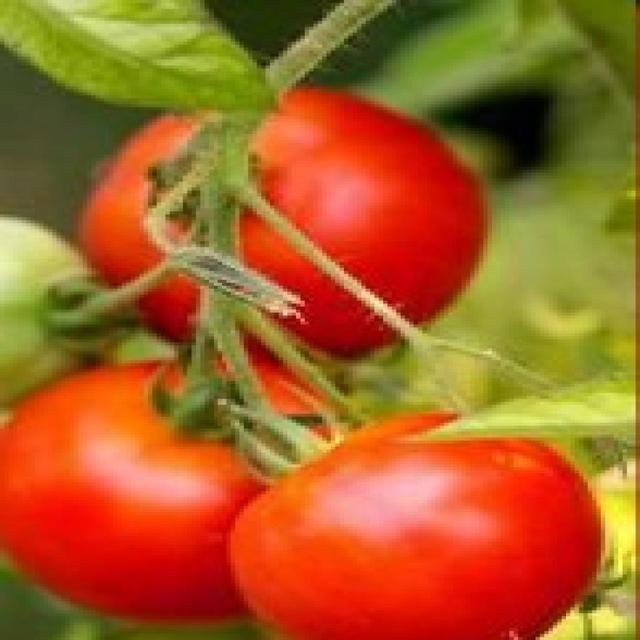Healthy Fruit: (109, 144, 275, 352)
